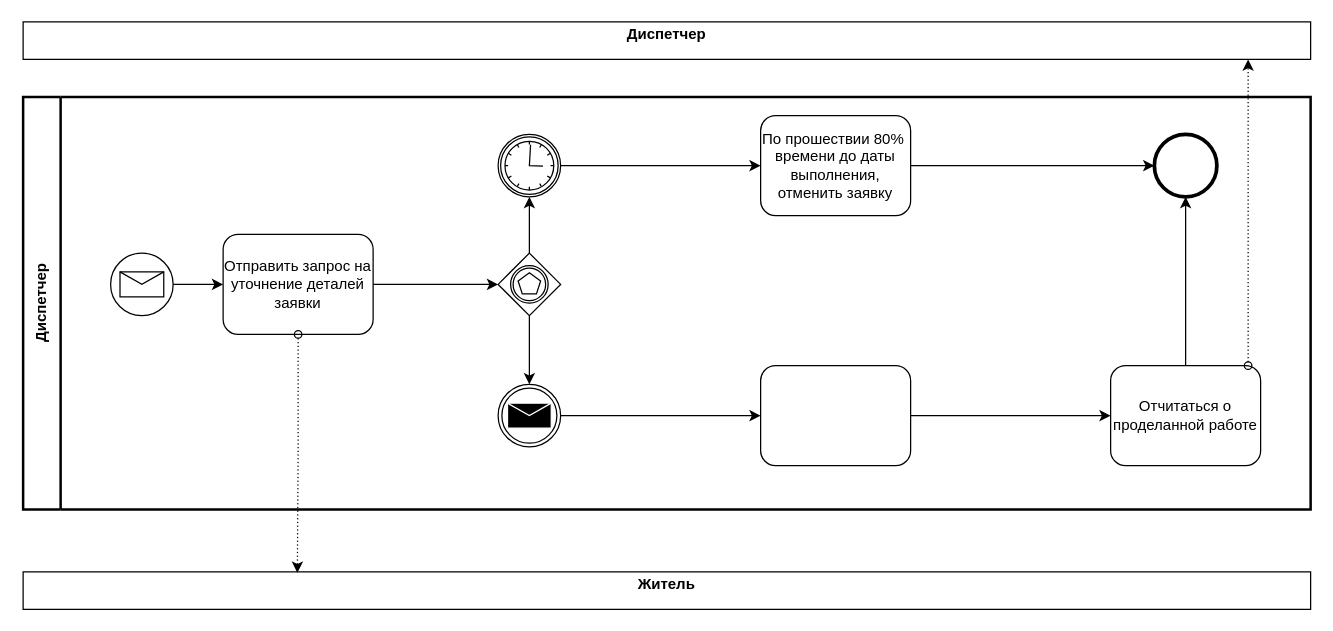
Some shapes in this 1333 by 631 pixel diagram are drawn without their labels. The centre of each missing label's shape, as x and y in pixels:
В расписание поступил новый наряд: (141,284)
Выполнить работы: (835,415)
Подтверждение деталей заявки и времени ее выполнения: (529,415)
